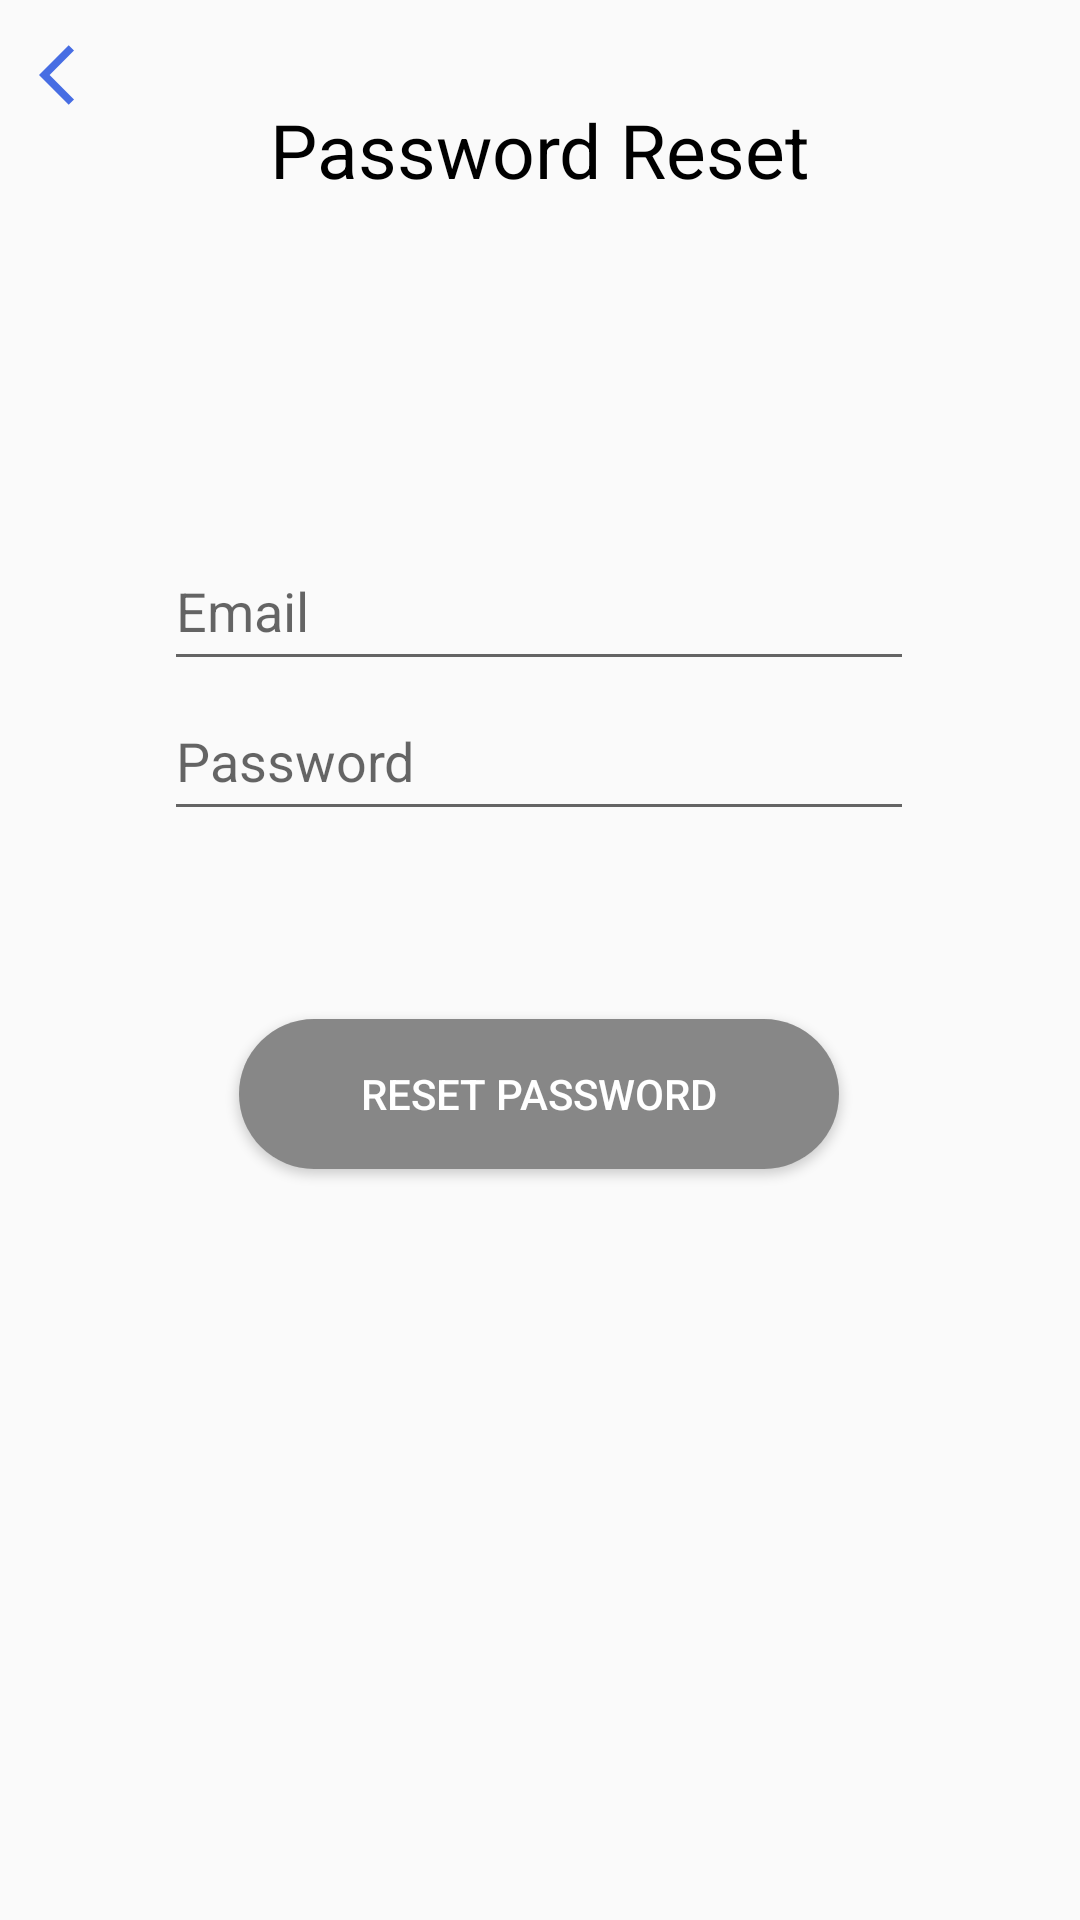

Icons on this 1080*1920 Android screen, each with its box as (x1, y1, x2, y2):
arrow back: (39, 45, 74, 105)
